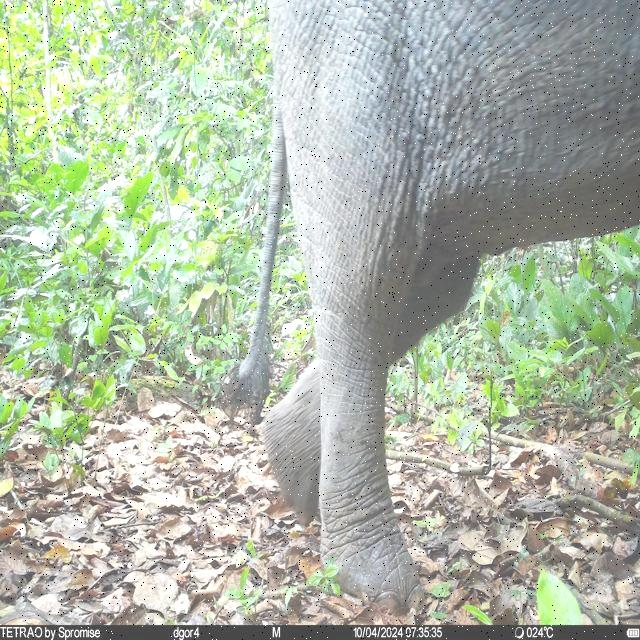elephant: (216, 0, 640, 615)
